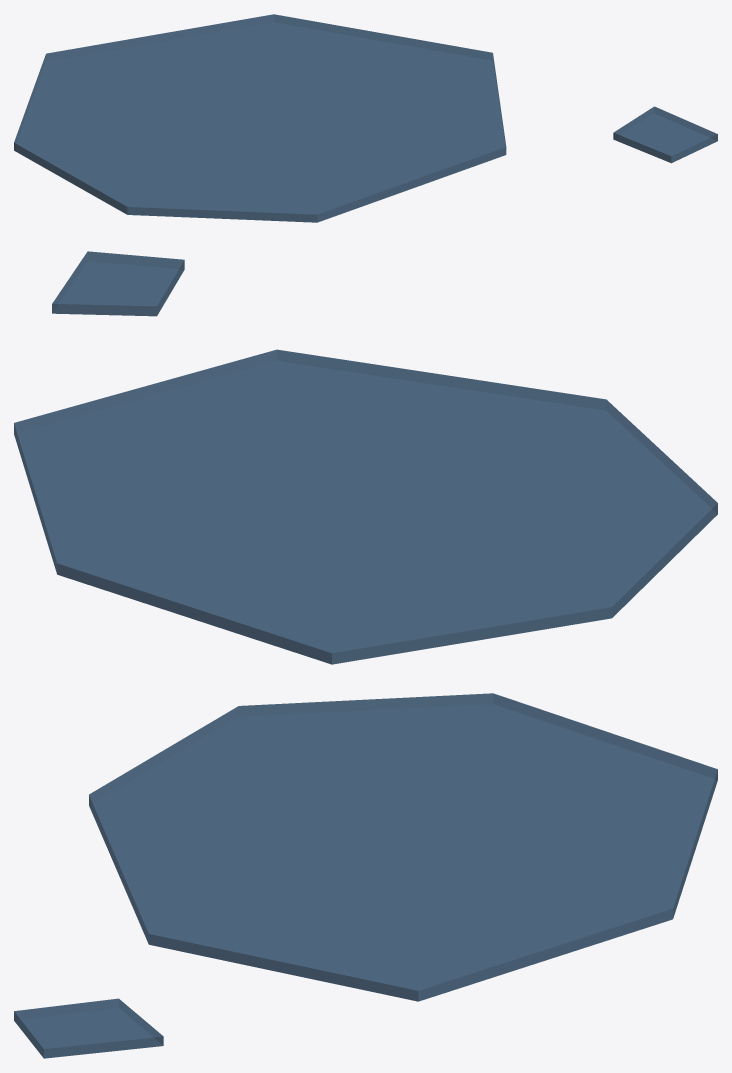
File: puddle.glb
The picture shows the model from 3 angles, top to bottom: view 1: azimuth 30°, elevation 25°; view 2: azimuth 150°, elevation 25°; view 3: azimuth 270°, elevation 25°; orthographic projection. The views are drawn at different scales.
Visible parts, largest first — view 1: puddle; view 2: puddle; view 3: puddle.
Boxes of the visible parts, x1,y1,x2,y2 form: puddle: (14, 14, 717, 222); puddle: (14, 251, 717, 664); puddle: (14, 693, 717, 1058).
Size of the model in its own units: 0.56 by 0.008 by 0.47.
